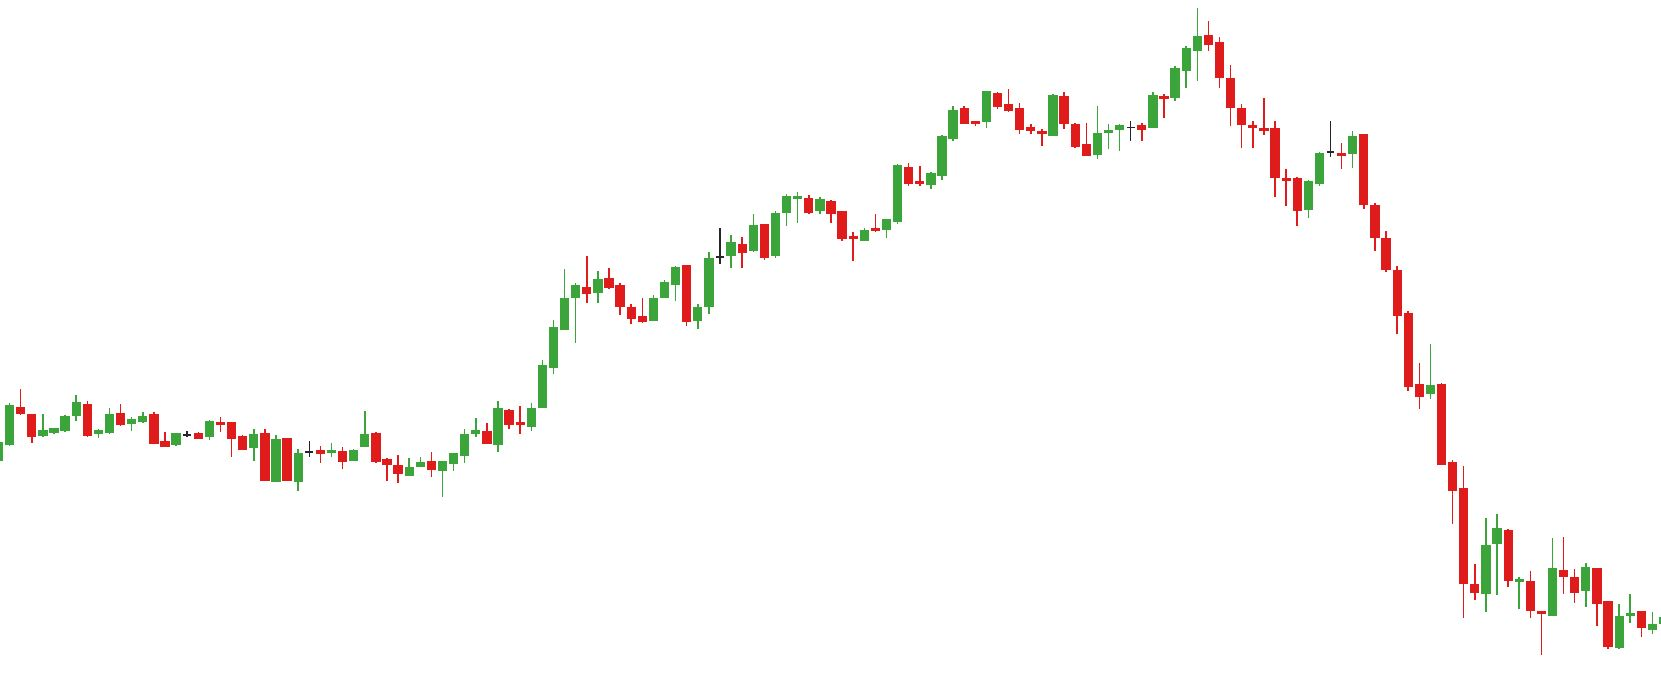buy: (769, 200, 871, 268), (391, 459, 448, 498)
